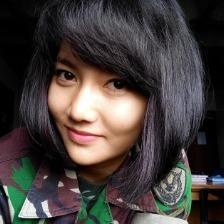Non hijab: (21, 0, 204, 197)
